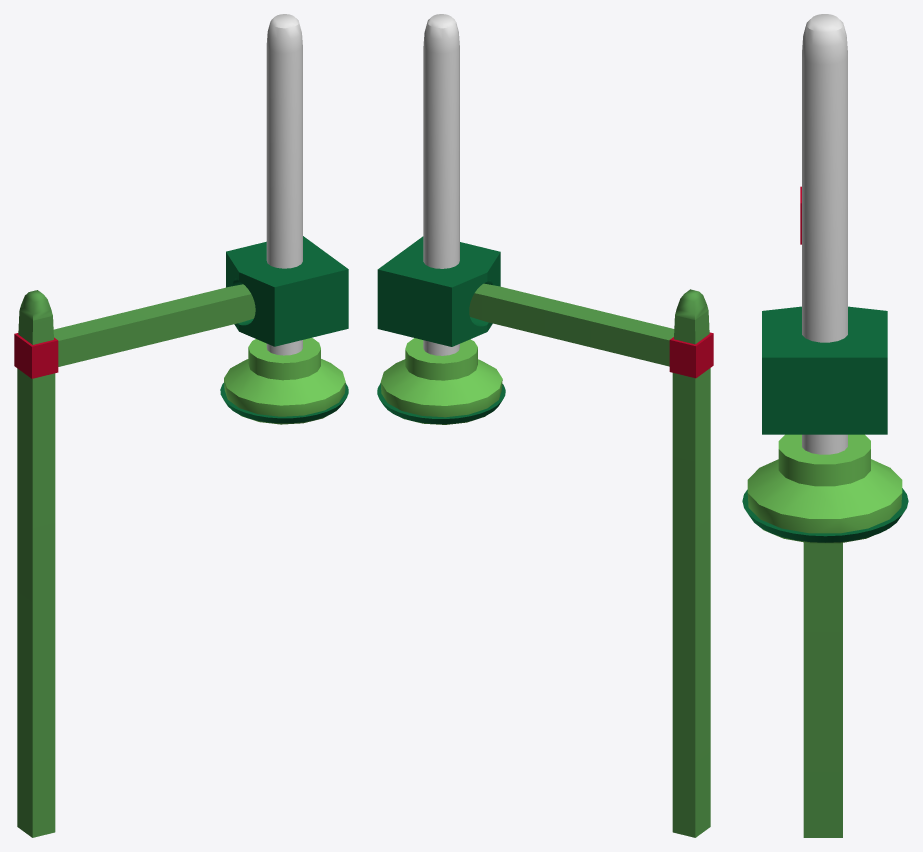
The picture shows the model from 3 angles, left to right: view 1: azimuth 30°, elevation 25°; view 2: azimuth 150°, elevation 25°; view 3: azimuth 270°, elevation 25°; orthographic projection. The views are drawn at different scales.
Visible parts, largest first — view 1: Cub, Cylinde; view 2: Cub, Cylinde; view 3: Cylinde, Cub.
Part boxes in pixels (box(x1,y1,x2,y2)): Cub: box(14, 236, 348, 837); Cylinde: box(220, 14, 348, 424); Cub: box(377, 236, 713, 837); Cylinde: box(377, 14, 505, 424); Cylinde: box(742, 14, 908, 543); Cub: box(762, 186, 887, 837).
Size of the model in its own units: 296 by 666 by 104.
